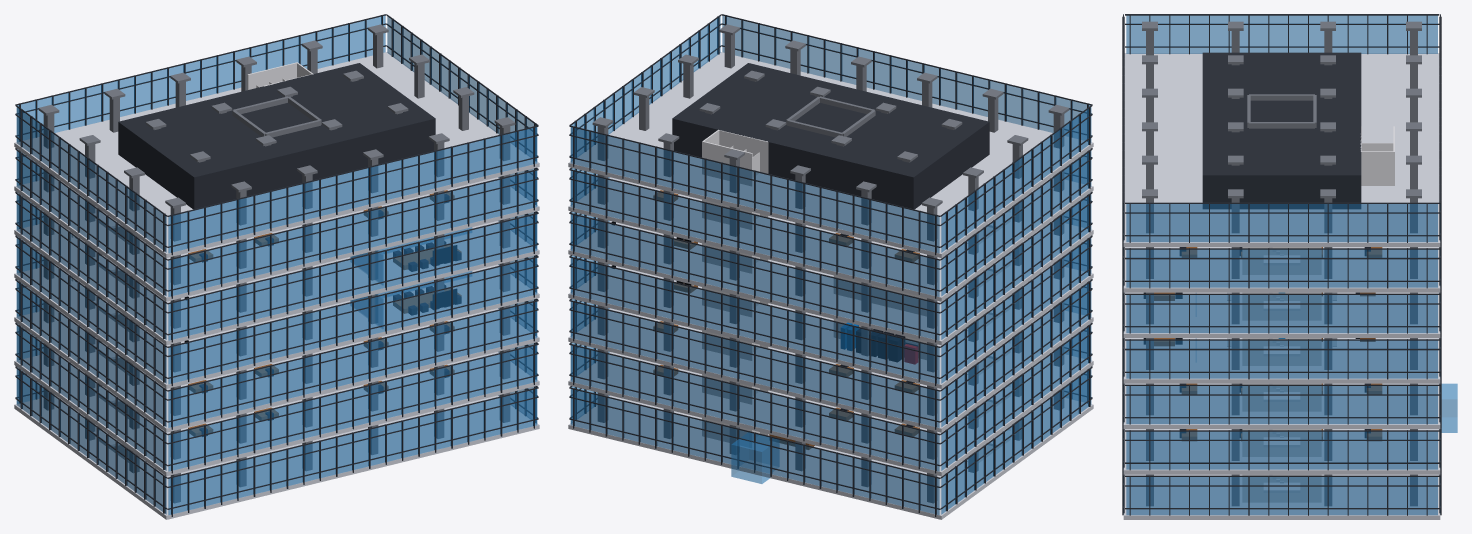
File: Dublin_TechHub_LOD350.obj
3 views of the same model, side by side, from view 1: azimuth 30°, elevation 25°; view 2: azimuth 150°, elevation 25°; view 3: azimuth 270°, elevation 25° (orthographic). The views are drawn at different scales.
Parts seen in each view (by area): view 1: L6_Glass, L6_PlantScreen, L6_Slab, L1_Glass, L4_Glass, L3_Glass, L0_Glass, L5_Glass, L2_Glass, L0_Slab, L5_Slab, L2_Slab (+23 smaller); view 2: L6_Glass, L6_PlantScreen, L6_Slab, L4_Glass, L1_Glass, L3_Glass, L5_Glass, L2_Glass, L0_Glass, L0_Slab, L5_Slab, L2_Slab (+28 smaller); view 3: L6_Slab, L6_PlantScreen, L6_Glass, L1_Glass, L0_Glass, L2_Glass, L3_Glass, L4_Glass, L5_Glass, L0_Slab, L3_Slab, L5_Slab (+26 smaller).
Part boxes in pixels (x1,y1,x2,y2): L6_Glass: (16, 16, 537, 252); L6_PlantScreen: (118, 63, 435, 209); L6_Slab: (14, 51, 539, 257); L1_Glass: (16, 324, 537, 471); L4_Glass: (16, 193, 537, 340); L3_Glass: (16, 237, 537, 383); L0_Glass: (16, 369, 537, 514); L5_Glass: (16, 149, 537, 296); L2_Glass: (16, 282, 537, 427); L0_Slab: (14, 395, 539, 519); L5_Slab: (14, 177, 539, 301); L2_Slab: (14, 308, 539, 432); L6_Glass: (570, 16, 1091, 252); L6_PlantScreen: (672, 63, 989, 209); L6_Slab: (568, 51, 1093, 257); L4_Glass: (570, 193, 1091, 340); L1_Glass: (570, 324, 1091, 471); L3_Glass: (570, 237, 1091, 383); L5_Glass: (570, 149, 1091, 296); L2_Glass: (570, 282, 1091, 427); L0_Glass: (570, 369, 1091, 514); L0_Slab: (568, 395, 1093, 519); L5_Slab: (568, 177, 1093, 301); L2_Slab: (568, 308, 1093, 432); L6_Slab: (1123, 53, 1440, 246); L6_PlantScreen: (1202, 52, 1361, 208); L6_Glass: (1126, 15, 1437, 241); L1_Glass: (1126, 431, 1437, 469); L0_Glass: (1126, 477, 1437, 514); L2_Glass: (1126, 386, 1437, 423); L3_Glass: (1126, 340, 1437, 378); L4_Glass: (1126, 295, 1437, 332); L5_Glass: (1126, 249, 1437, 287); L0_Slab: (1123, 474, 1440, 519); L3_Slab: (1123, 338, 1440, 383); L5_Slab: (1123, 247, 1440, 292).
Size of the model in its own units: 34000 by 26440 by 25390.
